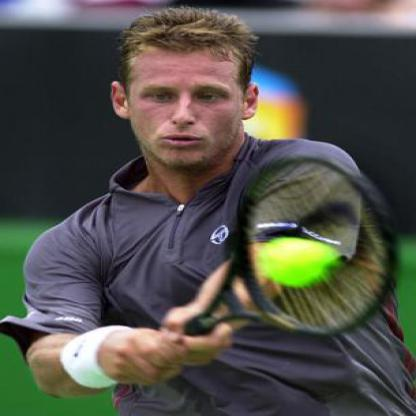face: (126, 18, 248, 170)
